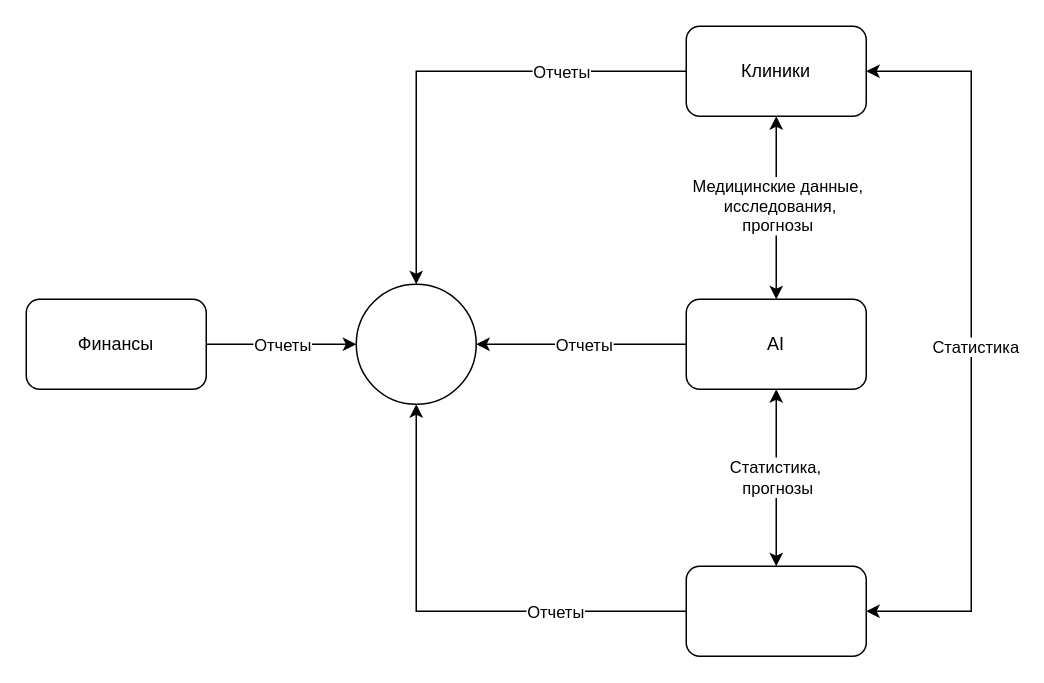
This 1044x683 diagram has some shape labels left out. Here are the shapes that lost their labels. From the top down, the centre of each, then its label:
(415,343): Головной офис
(775,610): Электроника
